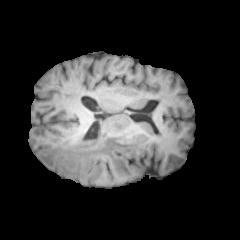glioma: (40, 114, 138, 181)
